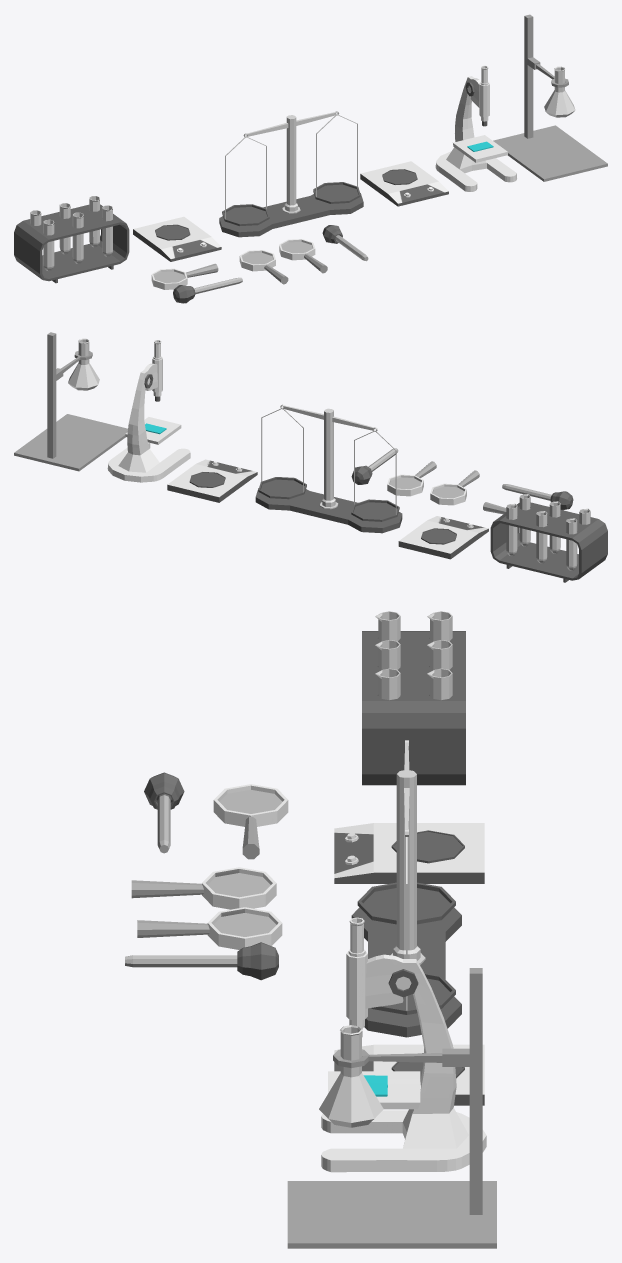
File: Alat Alat Lab Meja 2.fbx
The picture shows the model from 3 angles, top to bottom: view 1: azimuth 30°, elevation 25°; view 2: azimuth 150°, elevation 25°; view 3: azimuth 270°, elevation 25°; orthographic projection. The views are drawn at different scales.
Visible parts, largest first — view 1: Cylinder.012, Cube.013, Cube.009, Cylinder.015, Cylinder.013, Cylinder.011, Cylinder.014, Cube.010, Circle.015, Cube.012, Cube.011, Sphere.004 (+1 smaller); view 2: Cylinder.012, Cube.009, Cube.013, Cylinder.015, Cylinder.014, Cylinder.013, Cylinder.011, Circle.015, Cube.011, Cube.012, Sphere.004, Sphere.007; view 3: Cube.013, Cylinder.015, Cube.009, Cylinder.012, Cylinder.013, Cylinder.014, Cube.011, Cube.012, Circle.015, Cube.010, Sphere.007, Cylinder.011 (+1 smaller).
Boxes of the visible parts, x1,y1,x2,y2 form: Cylinder.012: [219, 111, 363, 237]; Cube.013: [493, 14, 607, 181]; Cube.009: [14, 204, 129, 283]; Cylinder.015: [435, 65, 516, 191]; Cylinder.013: [133, 216, 221, 261]; Cylinder.011: [360, 161, 448, 206]; Cylinder.014: [30, 196, 112, 271]; Cube.010: [151, 263, 218, 289]; Circle.015: [544, 66, 575, 117]; Cube.012: [279, 239, 327, 273]; Cube.011: [239, 250, 288, 284]; Sphere.004: [173, 277, 242, 303]; Cylinder.012: [255, 404, 402, 533]; Cube.009: [490, 502, 607, 582]; Cube.013: [14, 332, 127, 471]; Cylinder.015: [107, 340, 190, 482]; Cylinder.014: [506, 494, 590, 570]; Cylinder.013: [398, 516, 488, 559]; Cylinder.011: [167, 459, 257, 502]; Circle.015: [68, 338, 99, 390]; Cube.011: [430, 470, 479, 505]; Cube.012: [387, 461, 436, 496]; Sphere.004: [502, 484, 573, 510]; Sphere.007: [351, 448, 398, 484]; Cube.013: [287, 968, 496, 1248]; Cylinder.015: [321, 917, 486, 1172]; Cube.009: [362, 631, 465, 785]; Cylinder.012: [351, 740, 461, 1037]; Cylinder.013: [334, 823, 484, 883]; Cylinder.014: [375, 611, 452, 700]; Cube.011: [131, 867, 276, 909]; Cube.012: [137, 907, 282, 949]; Circle.015: [319, 1025, 383, 1127]; Cube.010: [213, 784, 288, 859]; Sphere.007: [125, 942, 278, 980]; Cylinder.011: [334, 1044, 484, 1105].
Size of the model in its own units: 550 by 121 by 161.
